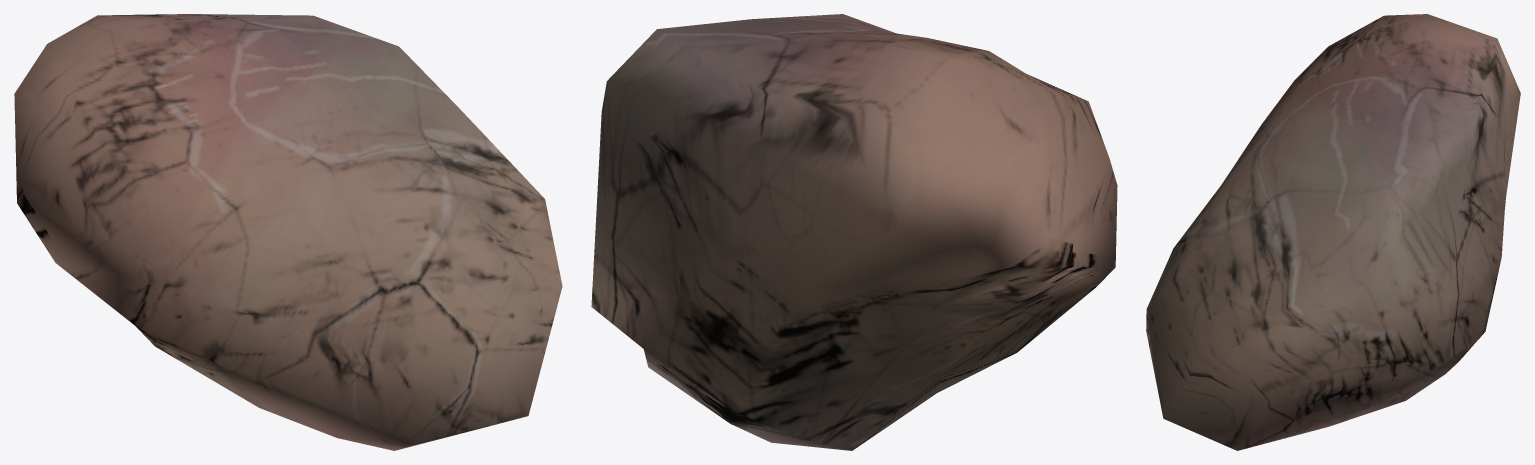
File: Rock_02A.fbx
The picture shows the model from 3 angles, left to right: view 1: azimuth 30°, elevation 25°; view 2: azimuth 150°, elevation 25°; view 3: azimuth 270°, elevation 25°; orthographic projection. The views are drawn at different scales.
Parts seen in each view (by area): view 1: Rock01:Mesh2; view 2: Rock01:Mesh2; view 3: Rock01:Mesh2.
Part boxes in pixels (bbox=[...]): Rock01:Mesh2: bbox=[14, 14, 562, 450]; Rock01:Mesh2: bbox=[591, 14, 1117, 450]; Rock01:Mesh2: bbox=[1146, 14, 1520, 450].
Bounding box in the file's own units: 8.55 × 7.25 × 7.36.
